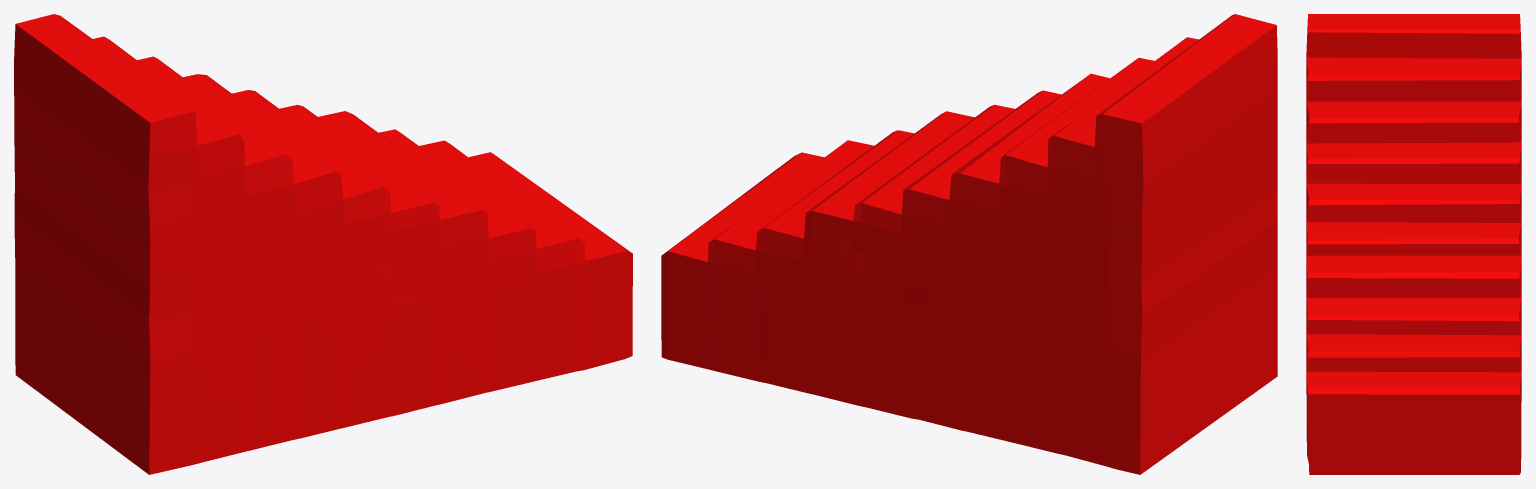
File: LowPoly_StairsLabyrinthe.fbx
3 renders of one model, left to right at view 1: azimuth 30°, elevation 25°; view 2: azimuth 150°, elevation 25°; view 3: azimuth 270°, elevation 25°, orthographic. The views are drawn at different scales.
Parts seen in each view (by area): view 1: LowPoly_StairsLabyrinthe; view 2: LowPoly_StairsLabyrinthe; view 3: LowPoly_StairsLabyrinthe.
Part boxes in pixels (x1,y1,x2,y2): LowPoly_StairsLabyrinthe: (14,14,632,474); LowPoly_StairsLabyrinthe: (661,14,1277,474); LowPoly_StairsLabyrinthe: (1306,14,1521,474).
Size of the model in its own units: 1437 by 1006 by 705.
